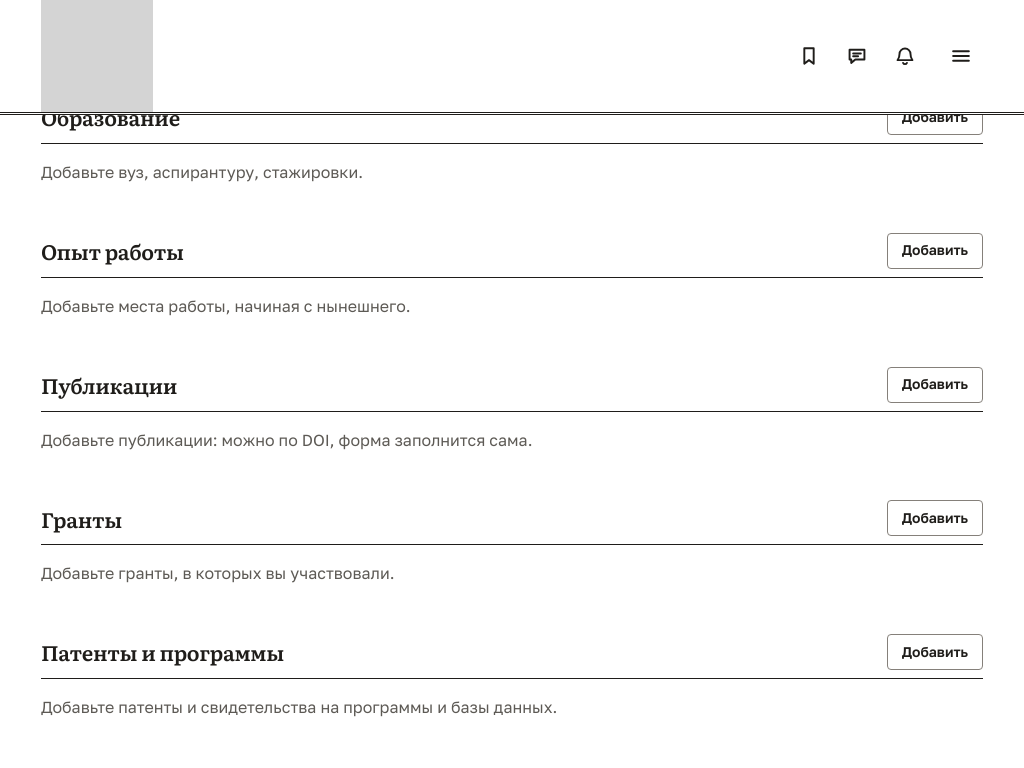
it: journal from Crossref › puts the journal found by the ISSN from Crossref into the form
(page scrolled)
Click the button with aria-label "Добавить в раздел «Публикации»": click(935, 385) [887,367,983,403]
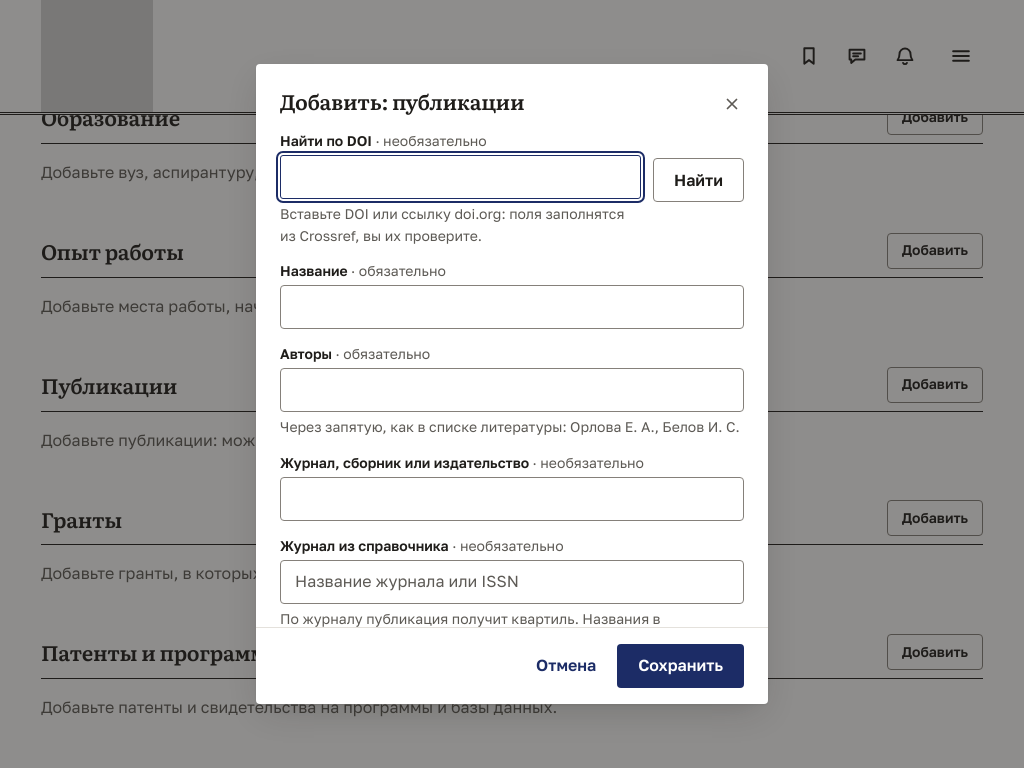
In the field labelled "Найти по DOI · необязательно": (460, 177) [280,155,641,199], type "10.1038/nature12373"
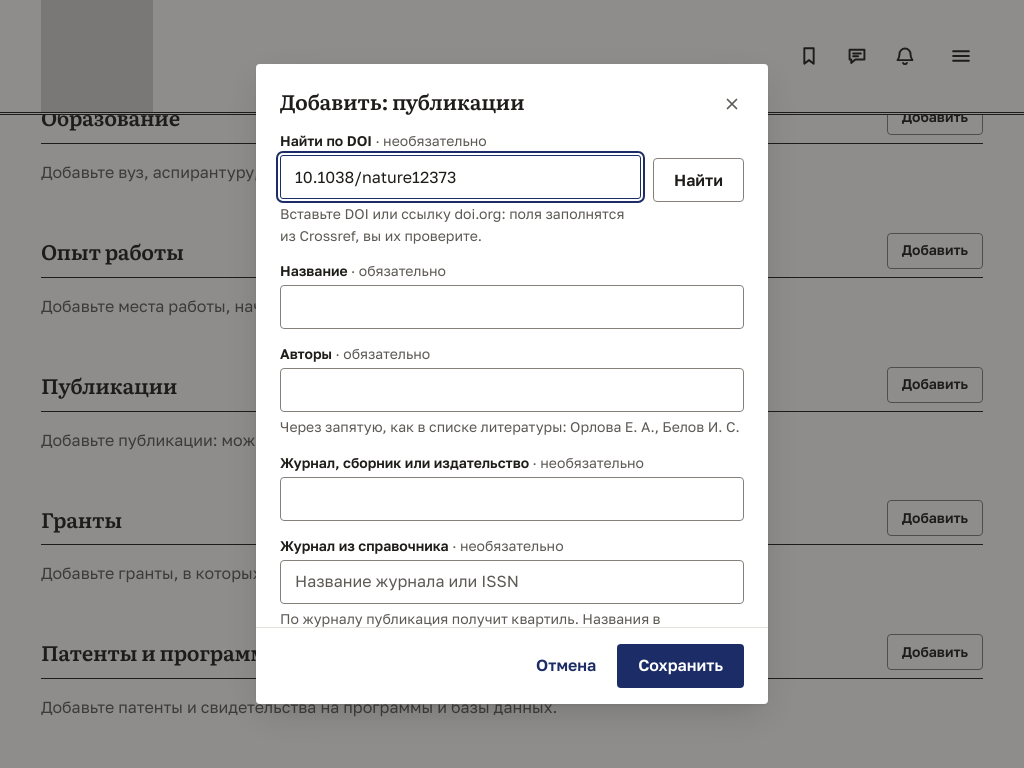
Click the button "Найти": click(698, 180) [653,158,744,202]
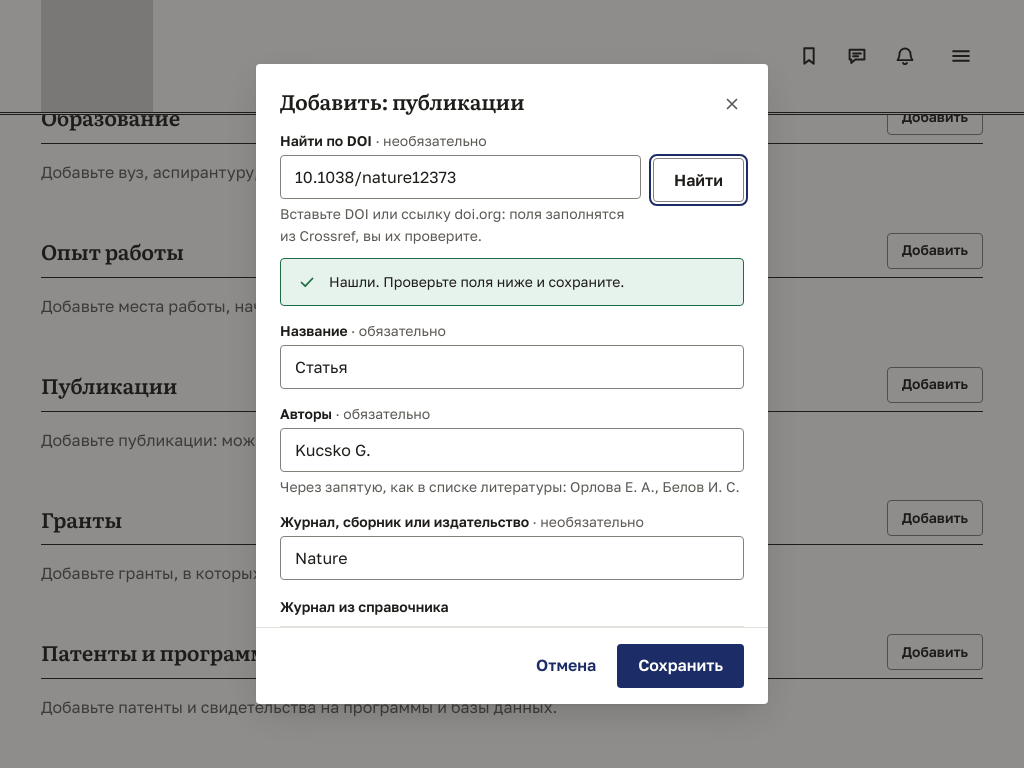
Check: the text "Нашли. Проверьте поля ниже и сохраните." is shown, box [329,273,624,290]
Click the button "Сохранить": click(681, 666) [617,644,744,688]
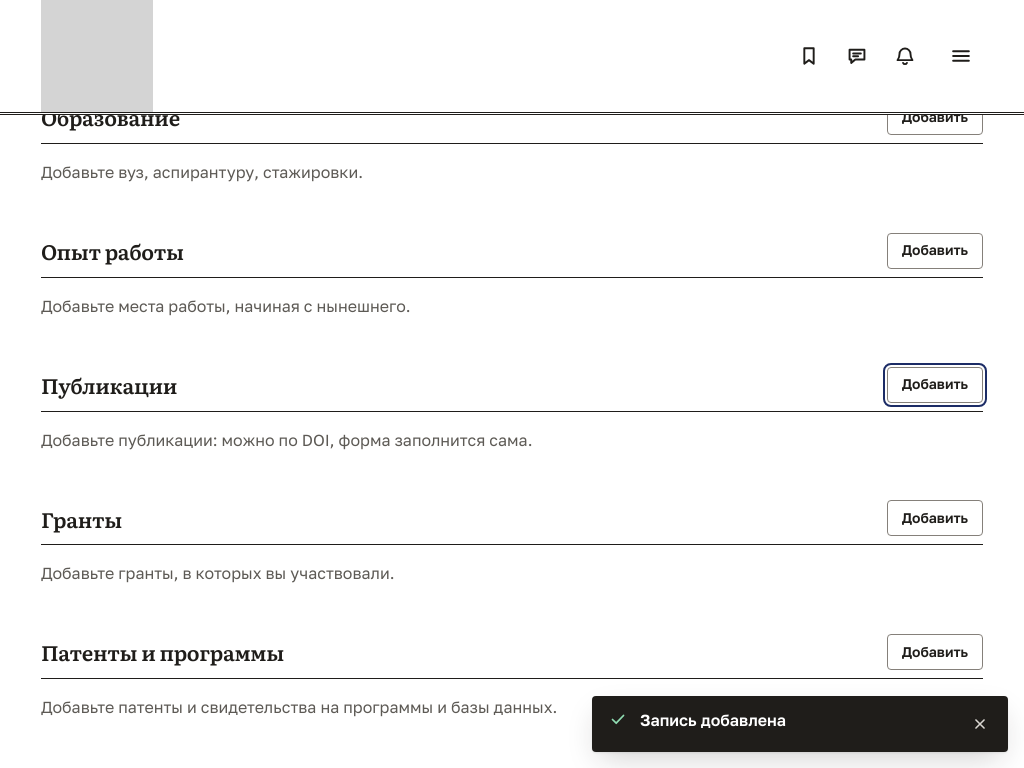
Check: the text "Запись добавлена" is shown, box [640,710,786,730]
